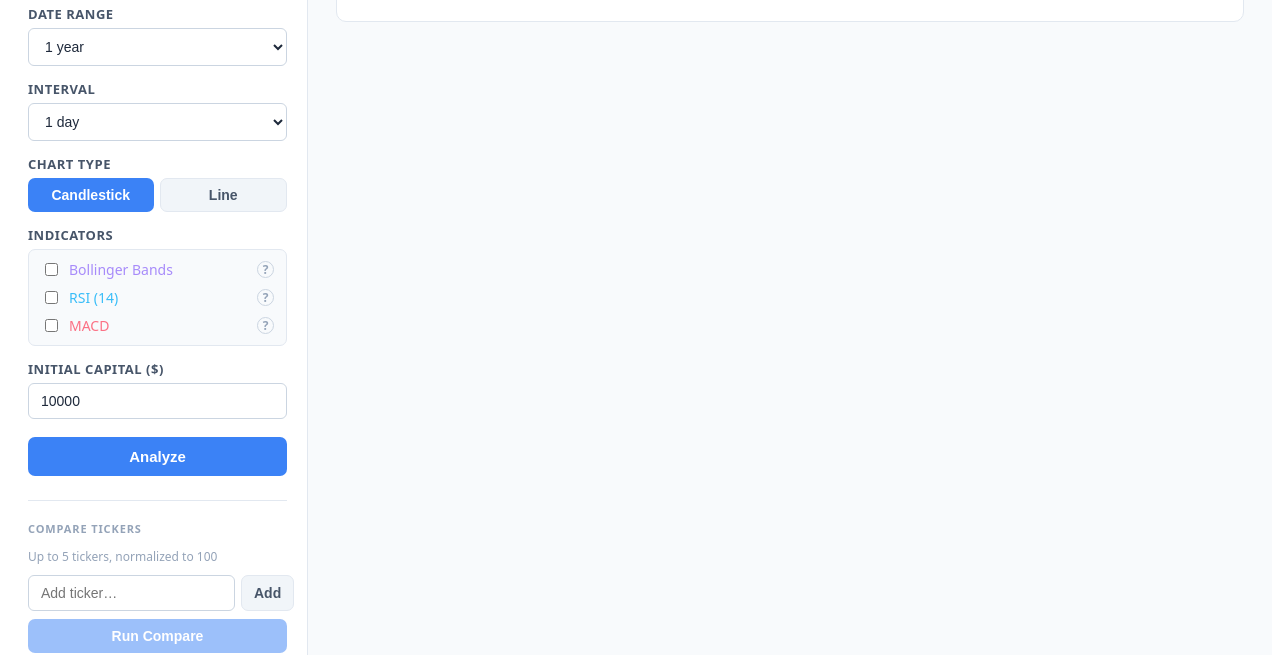
Test case: Stock Dashboard Test Suite › removes compare ticker
The width and height of the screenshot is (1280, 655).
(page scrolled)
Step 1. Type "AAPL" into the field with placeholder "Add ticker…" → (132, 593), box [28, 575, 235, 611]
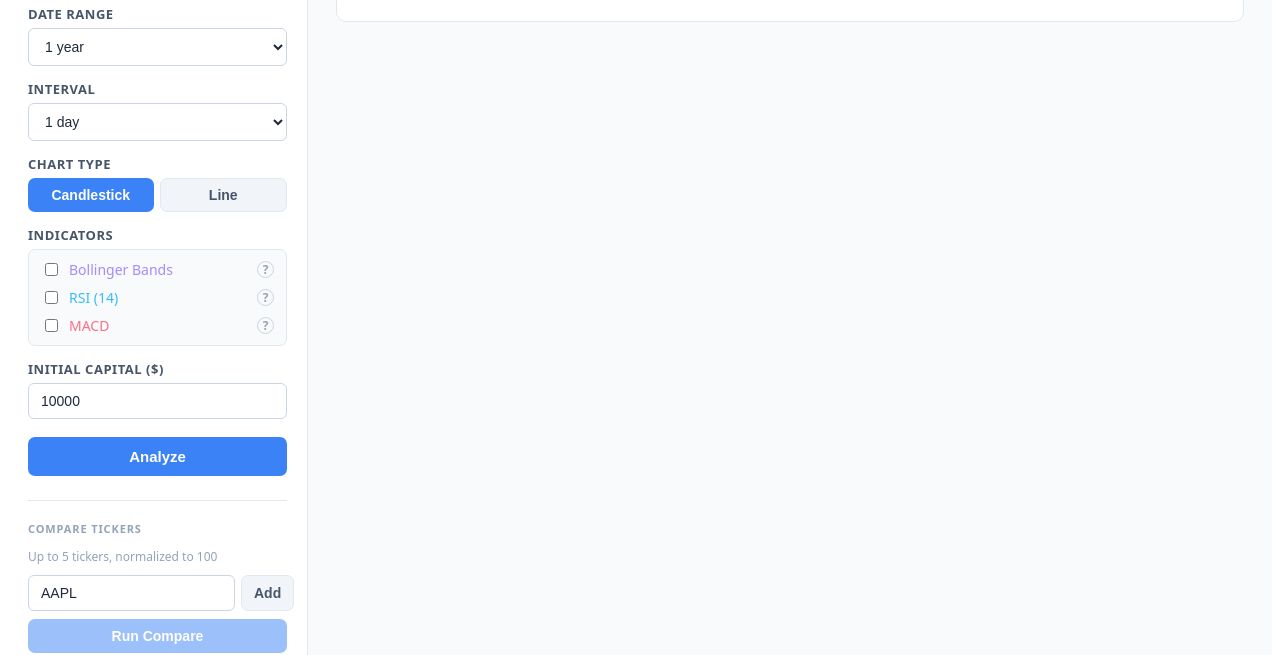
Step 2. Click the button "Add" → (268, 593), box [241, 575, 294, 611]
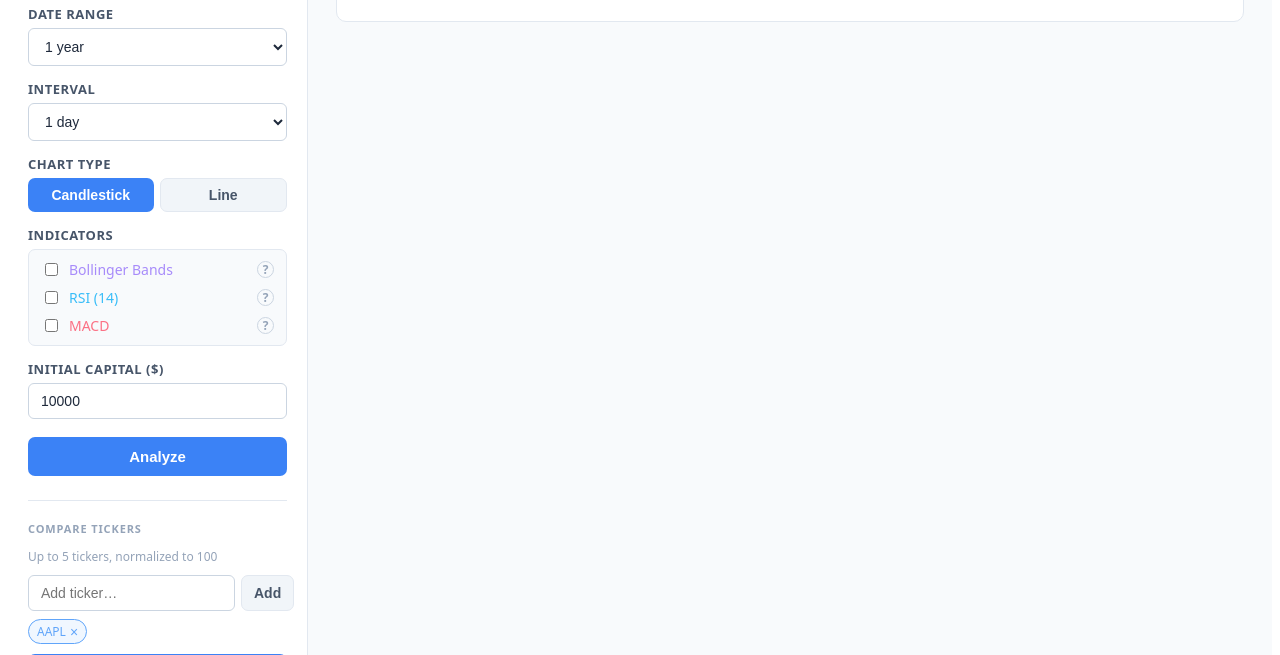
expect the text "AAPL" is shown: met, box [37, 623, 66, 640]
Step 3. Click the button "×" → (74, 632), box [70, 624, 78, 638]
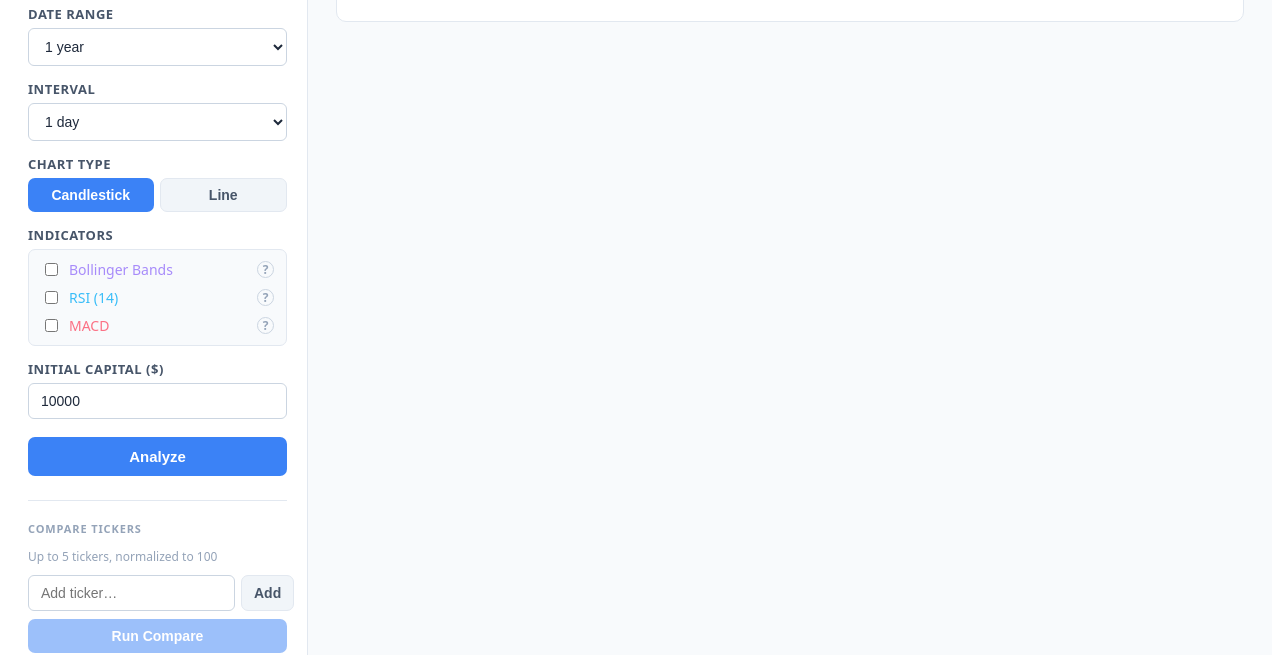
expect the text "AAPL" is gone: met
